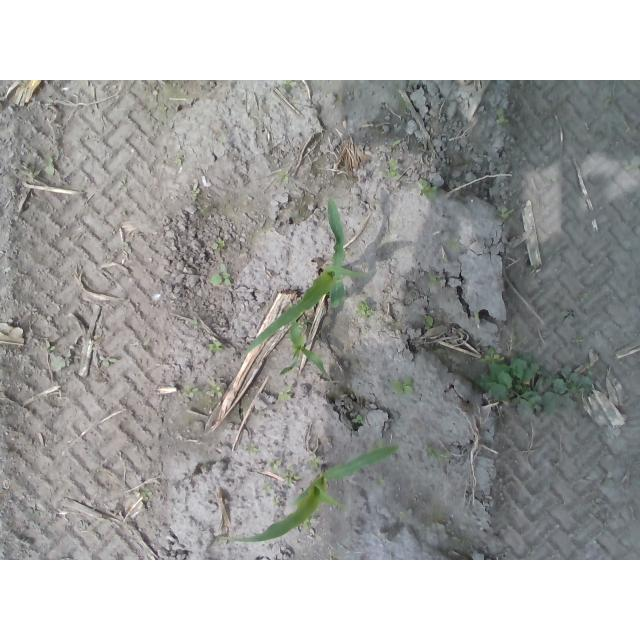Maize: (239, 197, 368, 356), (228, 442, 401, 546), (278, 315, 330, 378)
Weeds: (476, 344, 594, 420), (46, 343, 75, 370), (205, 263, 233, 287), (422, 440, 450, 460), (391, 373, 413, 396), (492, 204, 517, 224), (417, 177, 435, 199), (206, 381, 225, 400), (280, 469, 301, 485), (385, 155, 399, 178), (305, 455, 325, 470), (99, 353, 120, 367), (275, 387, 294, 402), (494, 108, 509, 126), (206, 339, 225, 353), (355, 301, 371, 316), (44, 157, 56, 176), (210, 234, 224, 250), (183, 384, 198, 398), (421, 312, 433, 328), (447, 238, 462, 250), (268, 458, 281, 471), (352, 413, 366, 425), (191, 183, 202, 197), (427, 273, 442, 283), (142, 488, 154, 500), (277, 171, 290, 182), (304, 518, 317, 529), (572, 334, 586, 344), (245, 445, 259, 455), (283, 80, 296, 90), (158, 102, 170, 112), (189, 319, 199, 329)
